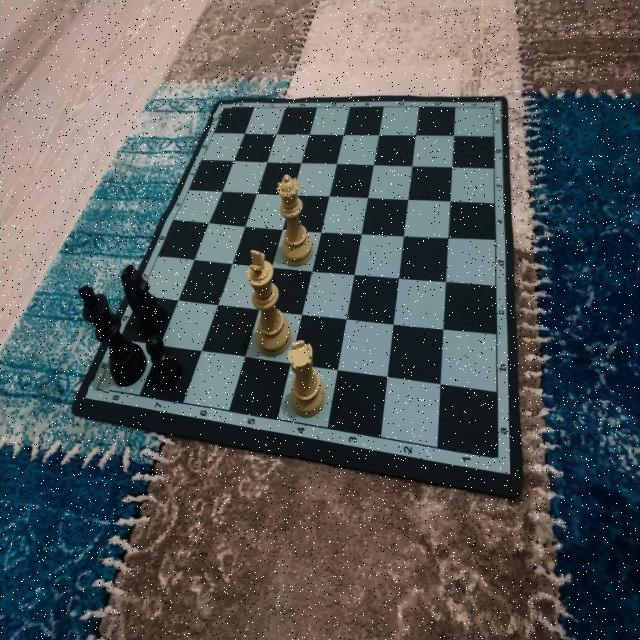corner: (88, 374, 110, 397), (213, 98, 233, 118), (483, 97, 502, 117), (488, 447, 504, 468)
